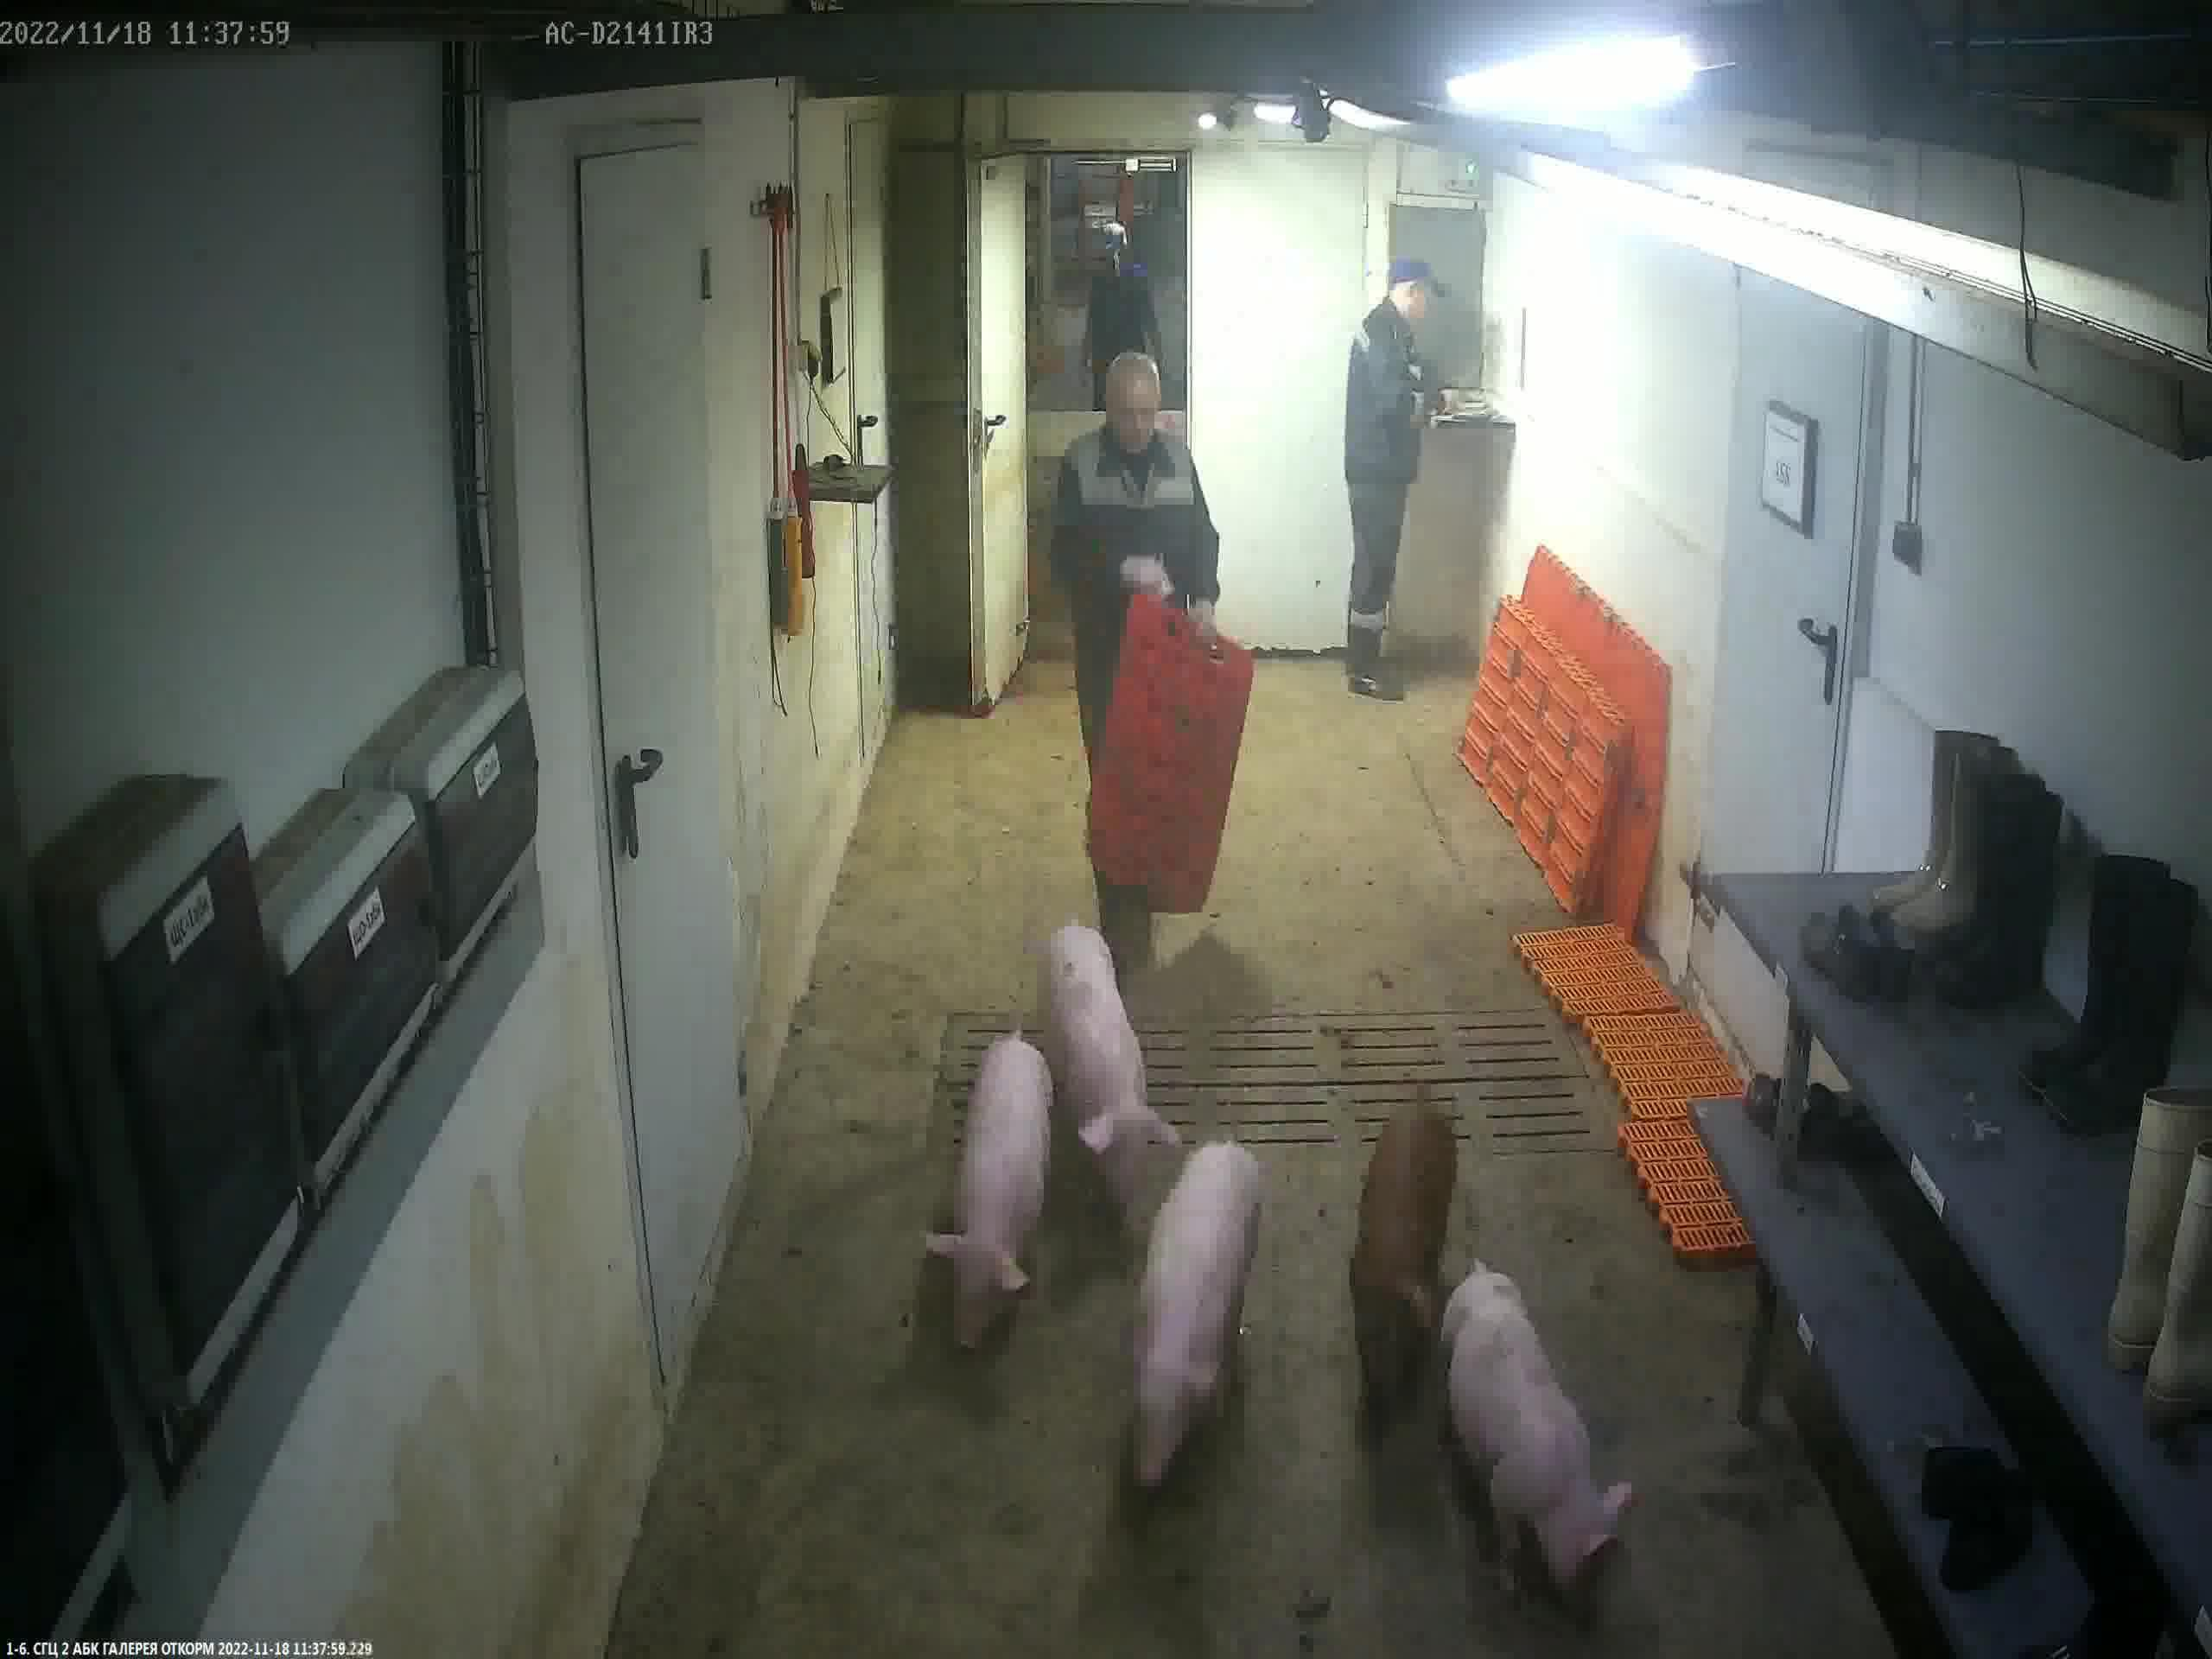Pigs: (1440, 1269, 1635, 1622), (1123, 1141, 1264, 1502), (928, 1032, 1057, 1359), (1052, 927, 1177, 1204), (1355, 1121, 1458, 1349)
